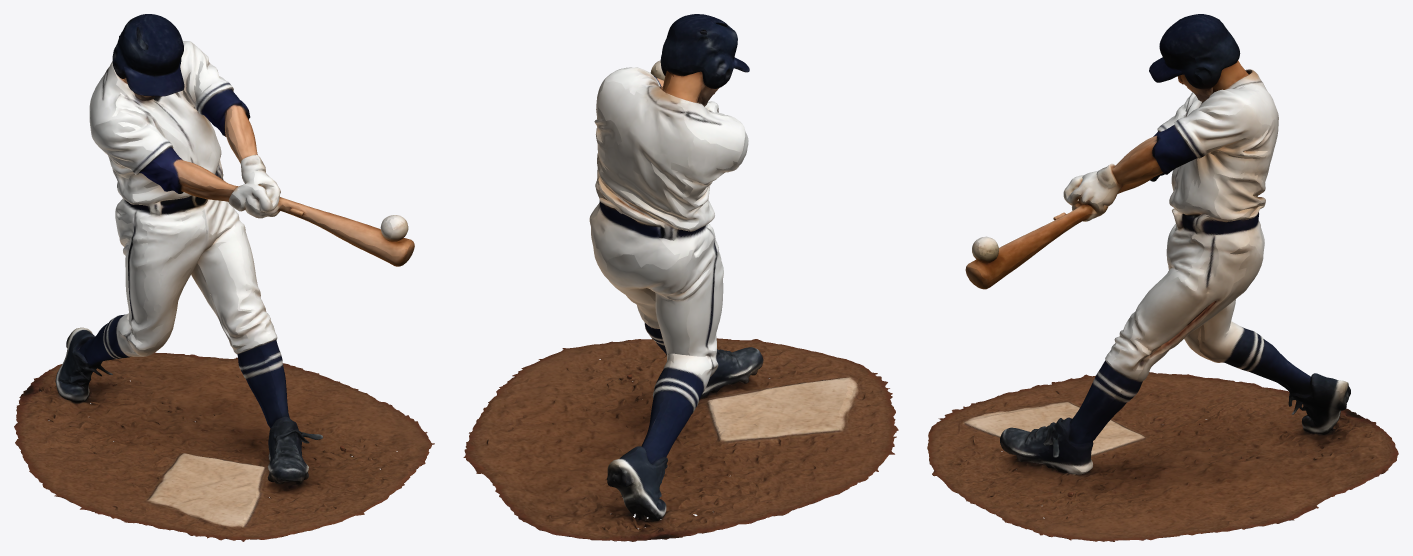
File: baseball-retexture.glb
3 renders of one model, left to right at view 1: azimuth 30°, elevation 25°; view 2: azimuth 150°, elevation 25°; view 3: azimuth 270°, elevation 25°, orthographic. The views are drawn at different scales.
Visible parts, largest first — view 1: geometry_0; view 2: geometry_0; view 3: geometry_0.
Part boxes in pixels (box(x1,y1,x2,y2)): geometry_0: box(14, 14, 434, 541); geometry_0: box(463, 14, 898, 541); geometry_0: box(927, 14, 1398, 541).
Bounding box in the file's own units: 0.8544 × 0.9879 × 1.
Materials: 1 (1 with a texture image).
